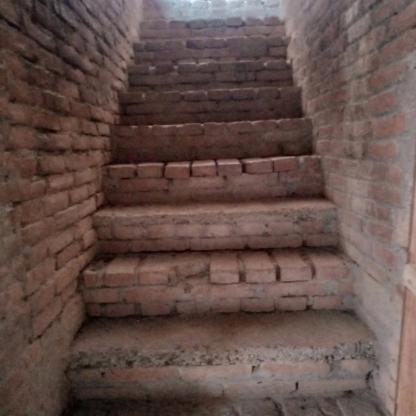stair: (88, 10, 364, 416)
